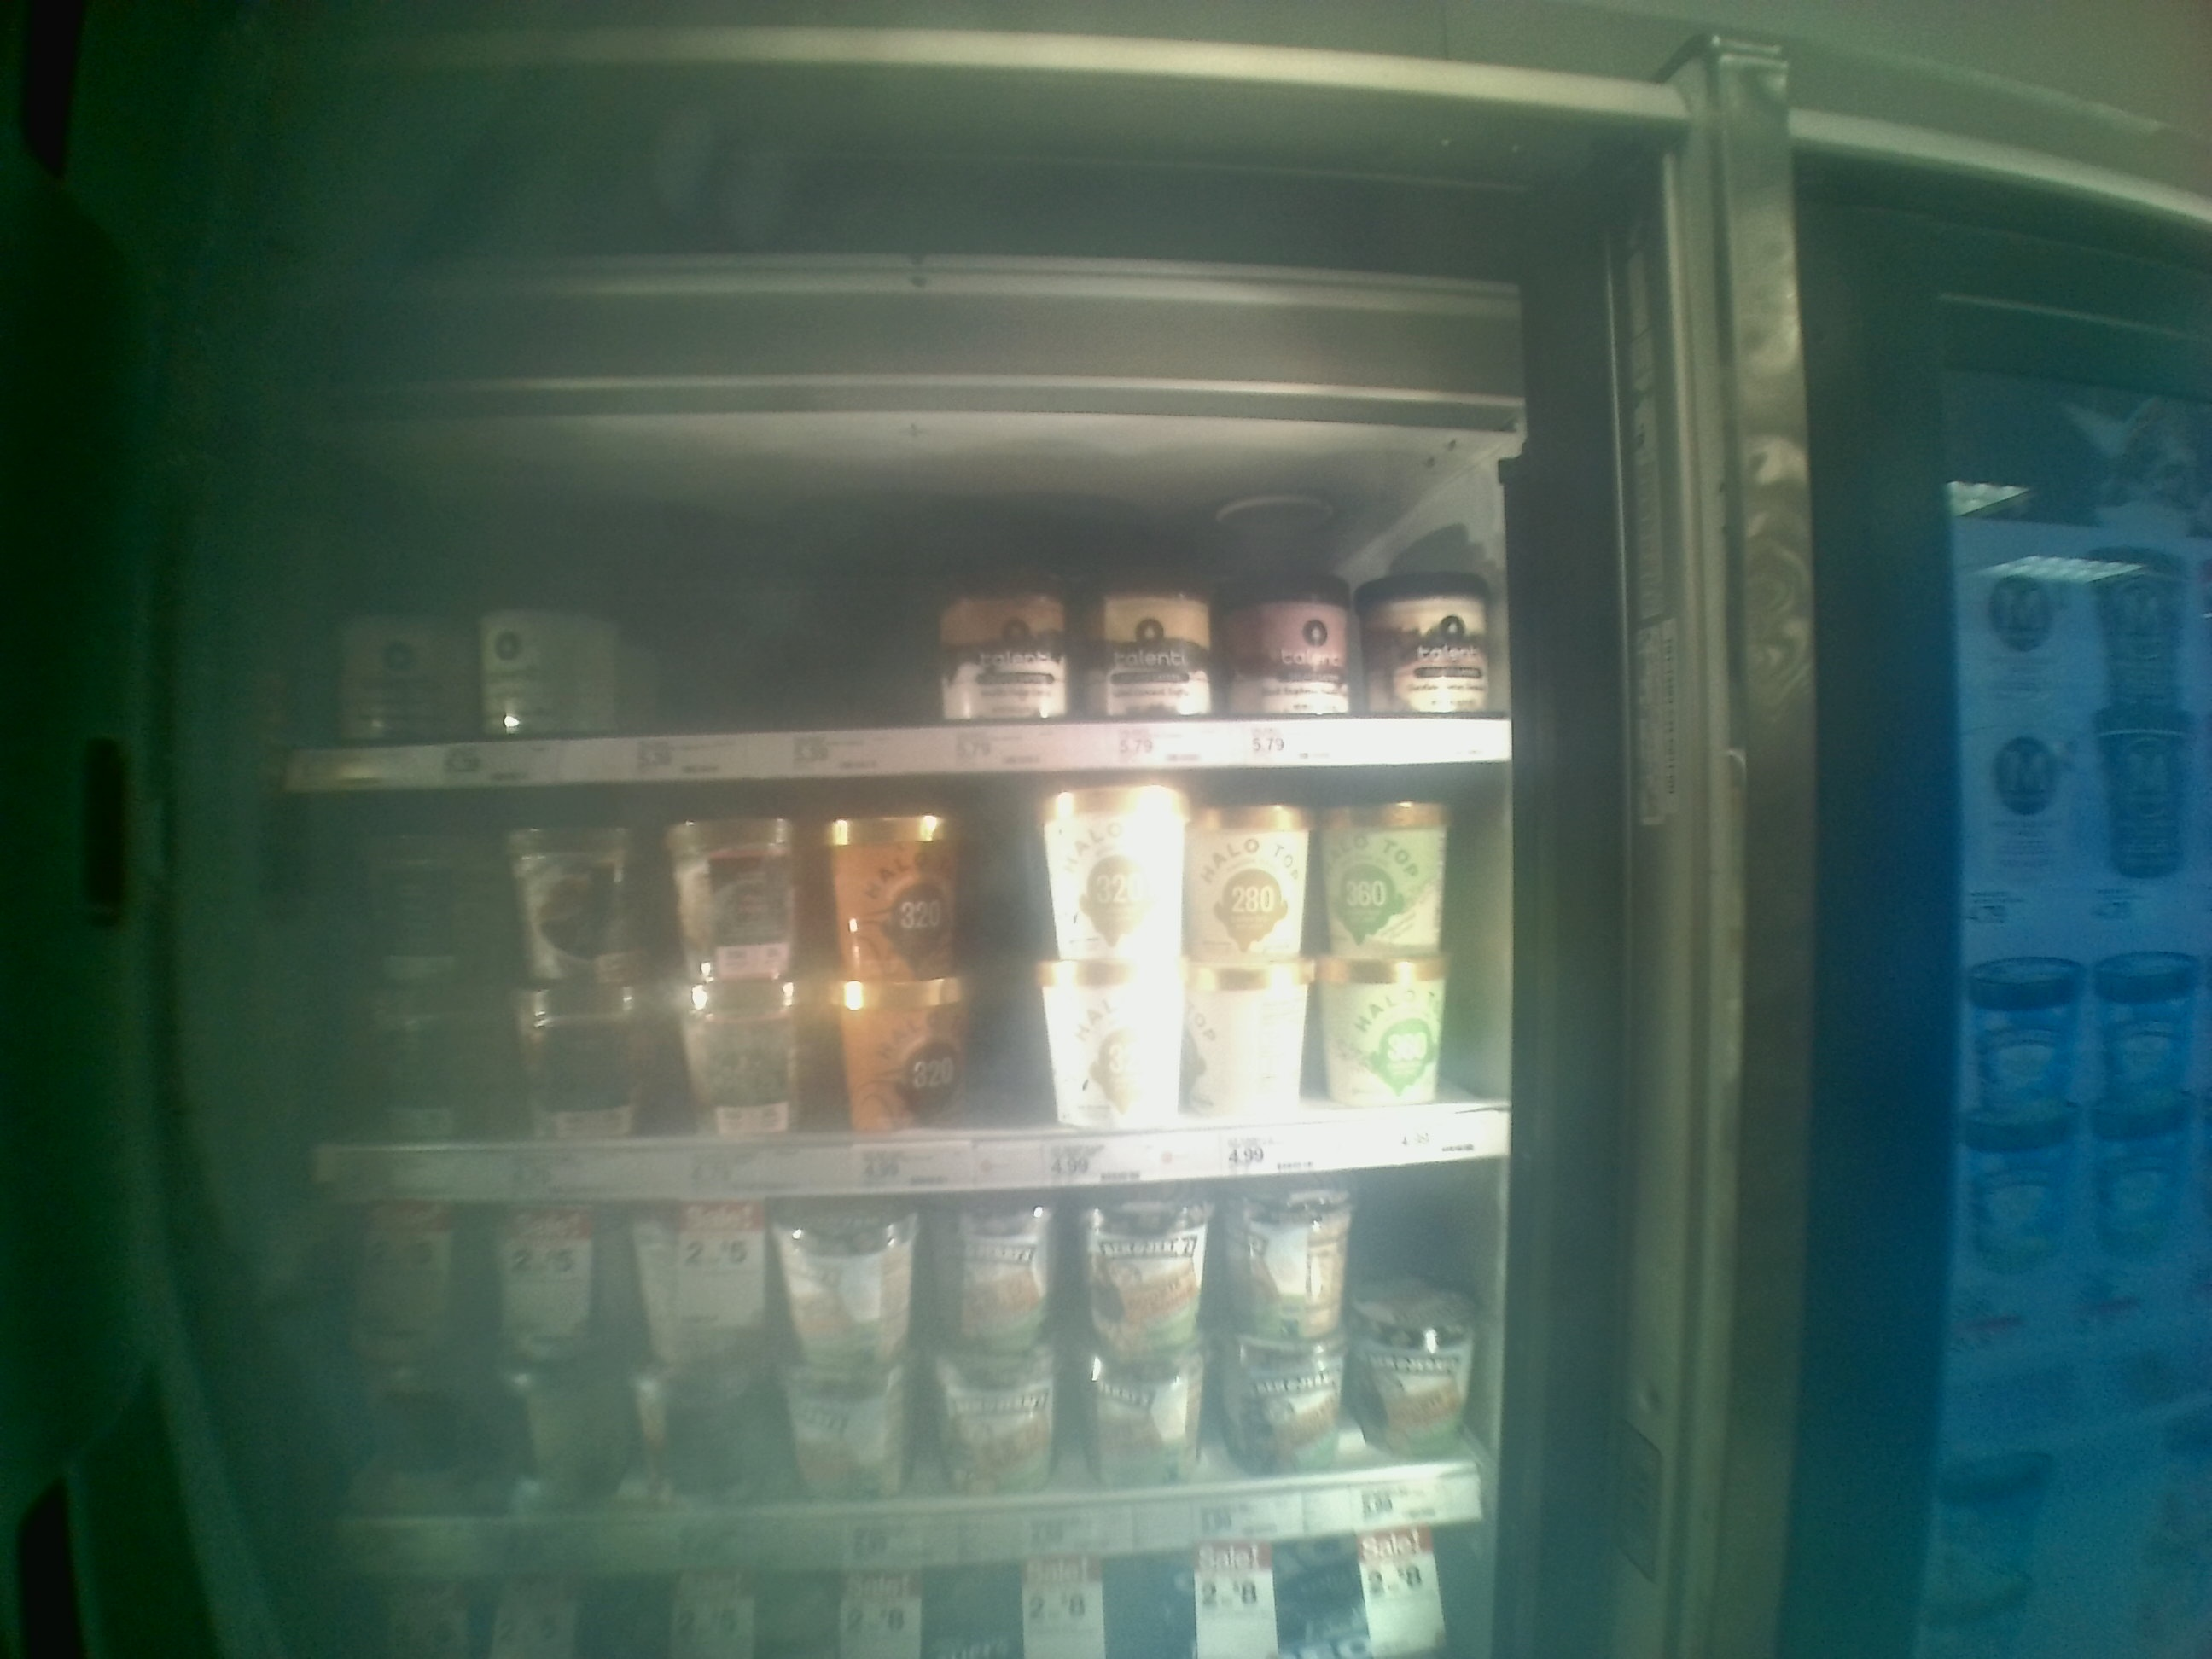shelf: (291, 784, 1524, 1194), (305, 1161, 1510, 1572), (294, 436, 1508, 779)
